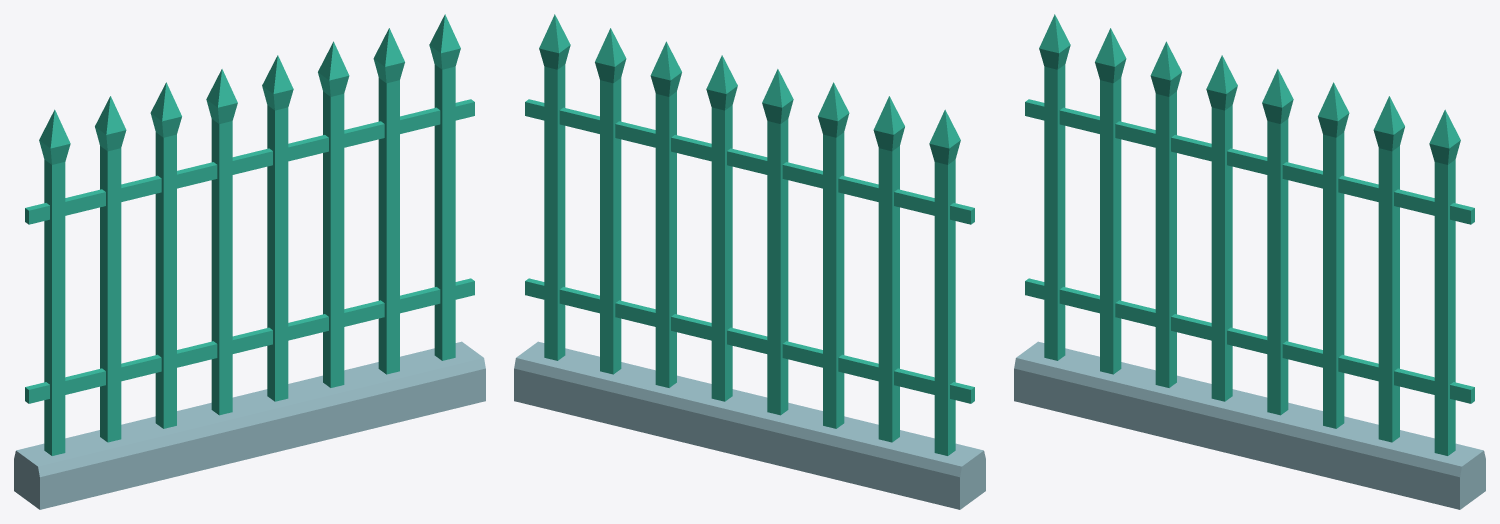
File: ironFenceBorder.fbx
3 views of the same model, side by side, from view 1: azimuth 30°, elevation 25°; view 2: azimuth 150°, elevation 25°; view 3: azimuth 330°, elevation 25° (orthographic).
Parts seen in each view (by area): view 1: ironFenceBorder; view 2: ironFenceBorder; view 3: ironFenceBorder.
Boxes of the visible parts, <box> form: ironFenceBorder: <box>14,14,485,509</box>; ironFenceBorder: <box>514,14,985,509</box>; ironFenceBorder: <box>1014,14,1485,509</box>.
Bounding box in the file's own units: 10 × 8.24 × 1.
